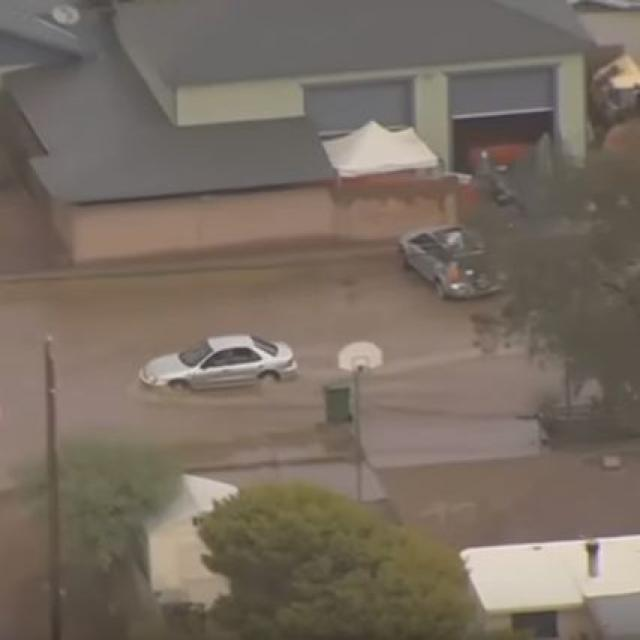flooded_areas: (3, 257, 638, 480)
